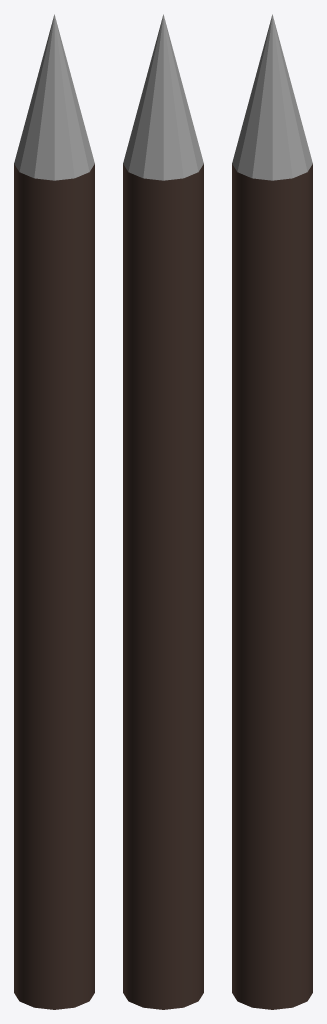
Rendered from woodSpike.fbx.
3 renders of one model, left to right at view 1: azimuth 90°, elevation 25°; view 2: azimuth 150°, elevation 25°; view 3: azimuth 270°, elevation 25°, orthographic.
Parts seen in each view (by area): view 1: pCylinder15; view 2: pCylinder15; view 3: pCylinder15.
Part boxes in pixels (bbox=[...]): pCylinder15: bbox=[14, 14, 94, 1009]; pCylinder15: bbox=[123, 14, 203, 1009]; pCylinder15: bbox=[232, 14, 312, 1009].
Bounding box in the file's own units: 1.16 × 15.53 × 1.16.
